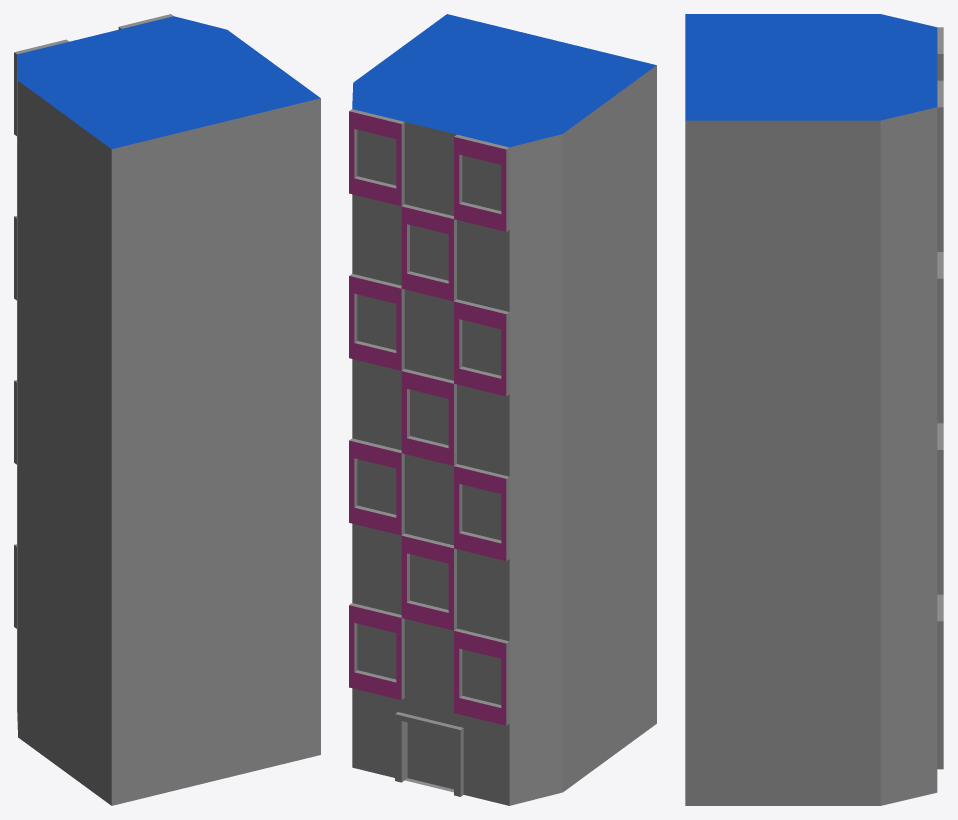
The model's file is PinkHotel.fbx.
3 renders of one model, left to right at view 1: azimuth 30°, elevation 25°; view 2: azimuth 150°, elevation 25°; view 3: azimuth 270°, elevation 25°, orthographic. The views are drawn at different scales.
Parts seen in each view (by area): view 1: Cube; view 2: Cube; view 3: Cube.
Part boxes in pixels (left/top/right/bottom): Cube: left=14, top=14, right=320, bottom=805; Cube: left=349, top=14, right=656, bottom=805; Cube: left=685, top=14, right=943, bottom=805.
Bounding box in the file's own units: 2 × 6 × 2.05.
